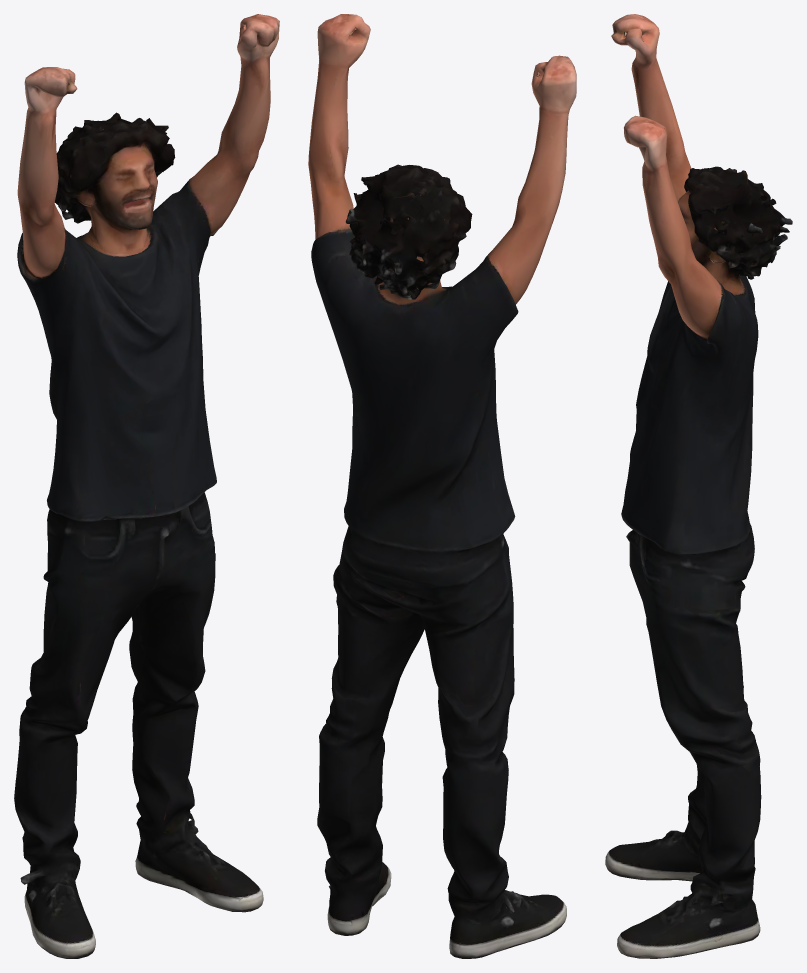
File: fan-arms-up-s1.glb
The picture shows the model from 3 angles, left to right: view 1: azimuth 30°, elevation 25°; view 2: azimuth 150°, elevation 25°; view 3: azimuth 270°, elevation 25°; orthographic projection. The views are drawn at different scales.
Parts seen in each view (by area): view 1: geometry_0; view 2: geometry_0; view 3: geometry_0.
Part boxes in pixels (<box>): geometry_0: <box>14,14,279,958</box>; geometry_0: <box>308,14,576,958</box>; geometry_0: <box>605,14,792,958</box>.
Bounding box in the file's own units: 0.3052 × 1 × 0.2016.
1 material, 1 textured.
